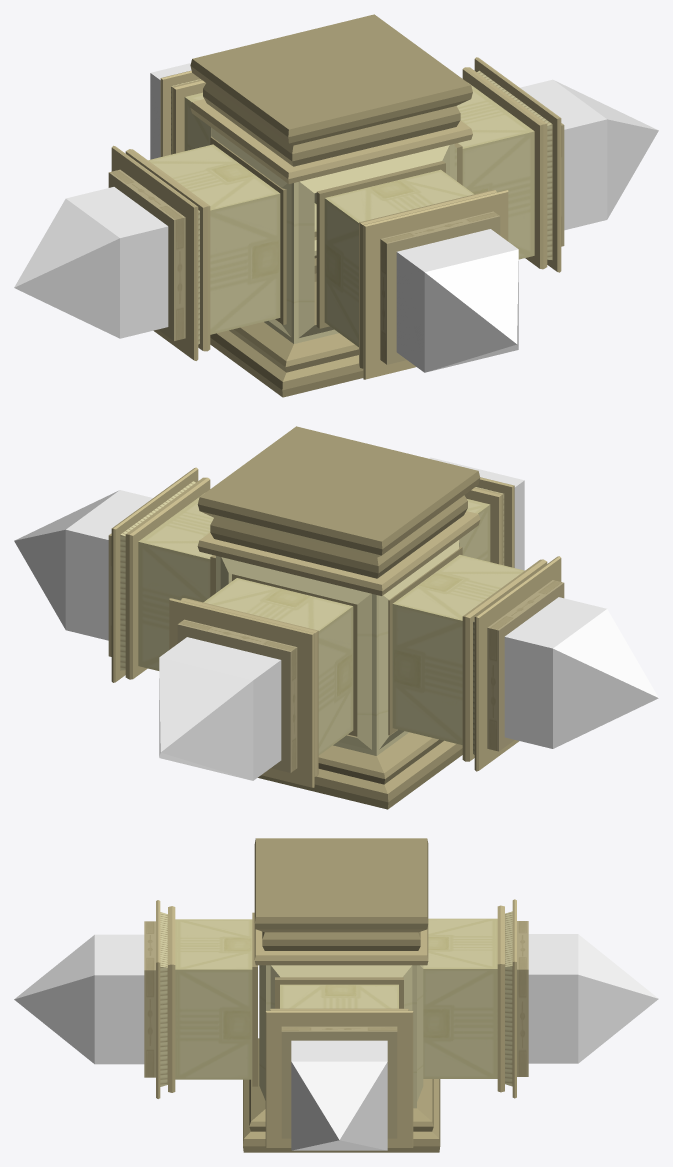
File: Splittprisma.fbx
The picture shows the model from 3 angles, top to bottom: view 1: azimuth 30°, elevation 25°; view 2: azimuth 150°, elevation 25°; view 3: azimuth 270°, elevation 25°; orthographic projection. The views are drawn at different scales.
Visible parts, largest first — view 1: Cube_001; view 2: Cube_001; view 3: Cube_001.
Boxes of the visible parts, x1,y1,x2,y2 form: Cube_001: (14, 14, 658, 397); Cube_001: (14, 426, 658, 809); Cube_001: (14, 838, 658, 1152).
Bounding box in the file's own units: 6.33 × 2.44 × 6.19.
Materials: 1 (1 with a texture image).
